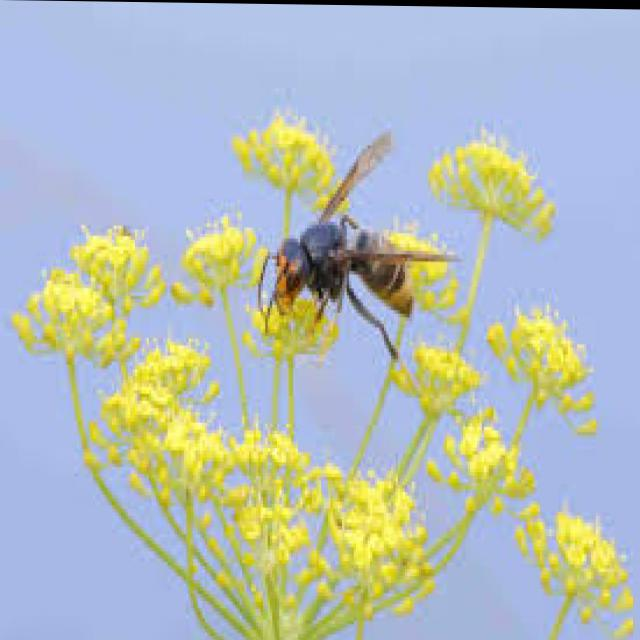Vespa Velutina: (247, 119, 466, 369)
